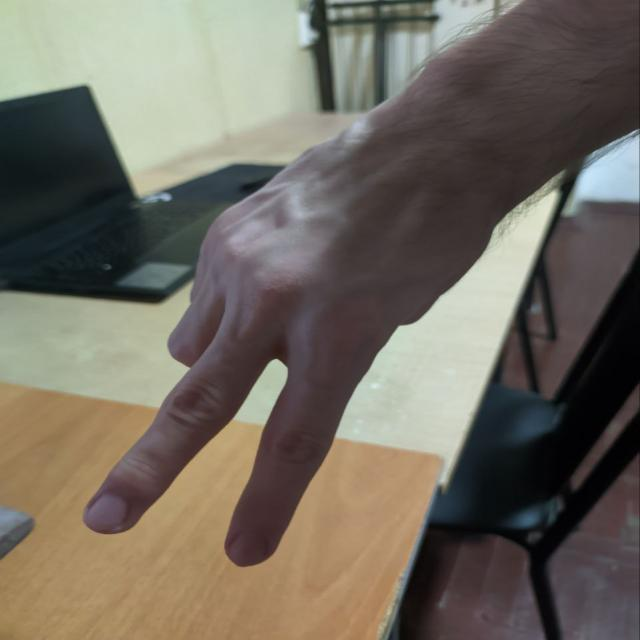l: (91, 123, 417, 565)
